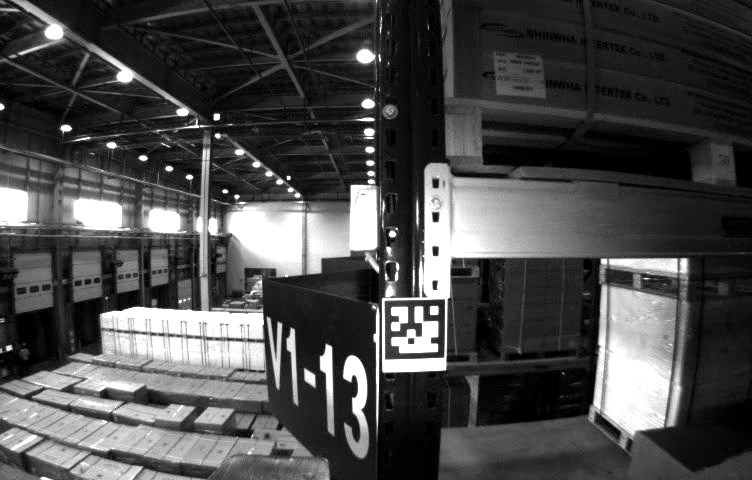True Barcode: (487, 49, 551, 100)
